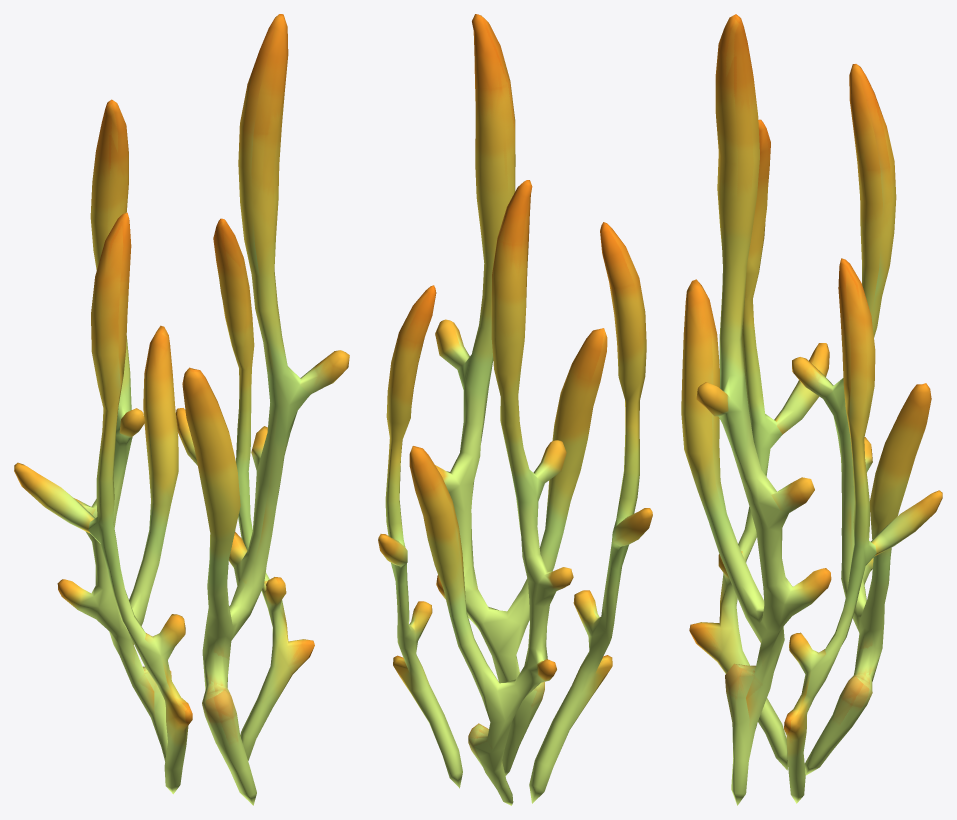
Rendered from lichen_tree.glb.
3 views of the same model, side by side, from view 1: azimuth 30°, elevation 25°; view 2: azimuth 150°, elevation 25°; view 3: azimuth 270°, elevation 25° (orthographic). The views are drawn at different scales.
Visible parts, largest first — view 1: deeplilypads_flower_03_group_a_LOD0__0; view 2: deeplilypads_flower_03_group_a_LOD0__0; view 3: deeplilypads_flower_03_group_a_LOD0__0.
Boxes of the visible parts, bbox=[...] form: deeplilypads_flower_03_group_a_LOD0__0: bbox=[14, 14, 349, 805]; deeplilypads_flower_03_group_a_LOD0__0: bbox=[378, 14, 652, 805]; deeplilypads_flower_03_group_a_LOD0__0: bbox=[681, 14, 942, 805].
Size of the model in its own units: 5.93 by 15.71 by 4.63.
1 material, 1 textured.
